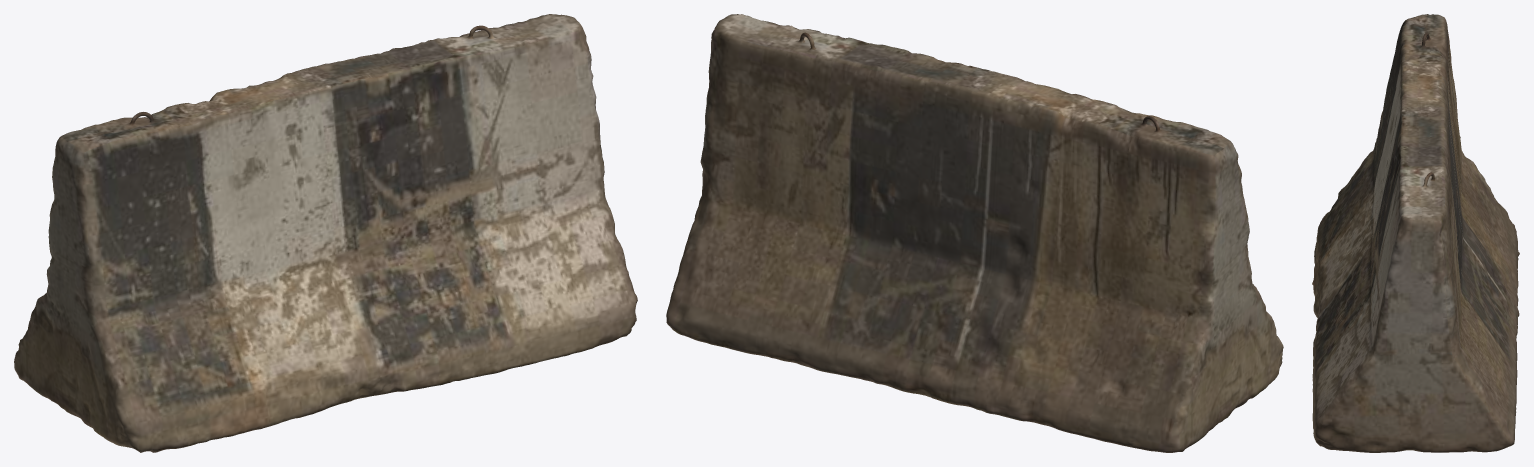
3 views of the same model, side by side, from view 1: azimuth 30°, elevation 25°; view 2: azimuth 150°, elevation 25°; view 3: azimuth 270°, elevation 25° (orthographic). The views are drawn at different scales.
Parts seen in each view (by area): view 1: concrete_road_barrier; view 2: concrete_road_barrier; view 3: concrete_road_barrier.
Boxes of the visible parts, left/top/right/bottom form: concrete_road_barrier: left=14, top=14, right=637, bottom=452; concrete_road_barrier: left=666, top=14, right=1283, bottom=452; concrete_road_barrier: left=1312, top=14, right=1519, bottom=452.
Bounding box in the file's own units: 1.55 × 0.831 × 0.6387.
Materials: 1 (1 with a texture image).
